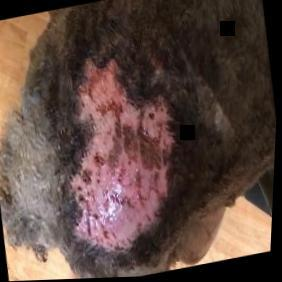skin_lesions: (46, 34, 206, 268)
